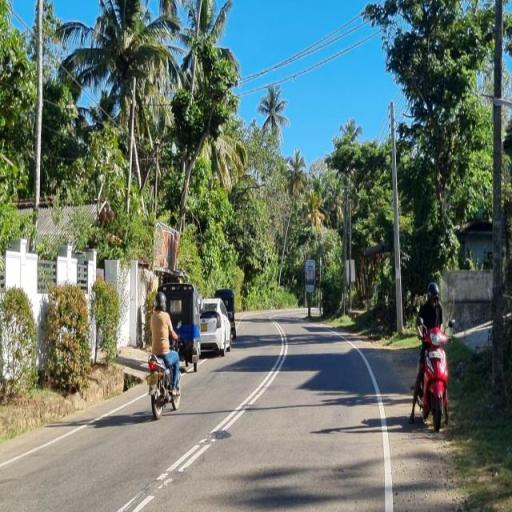double_white_line: (154, 322, 292, 492)
